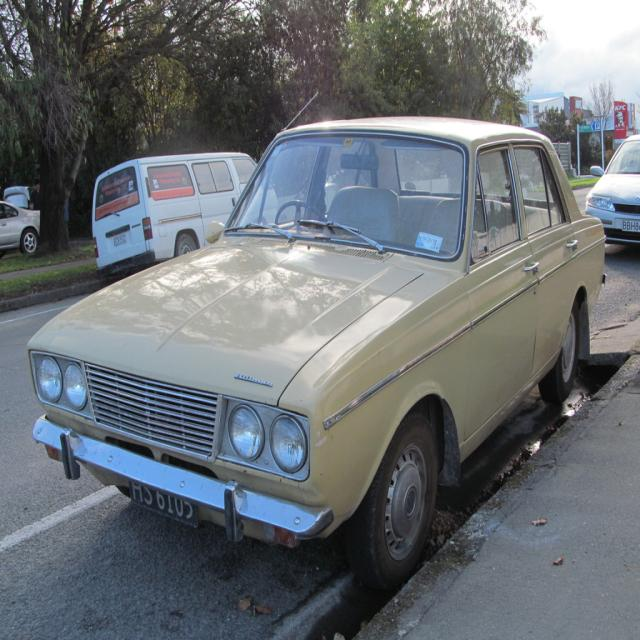car: (25, 92, 607, 594)
